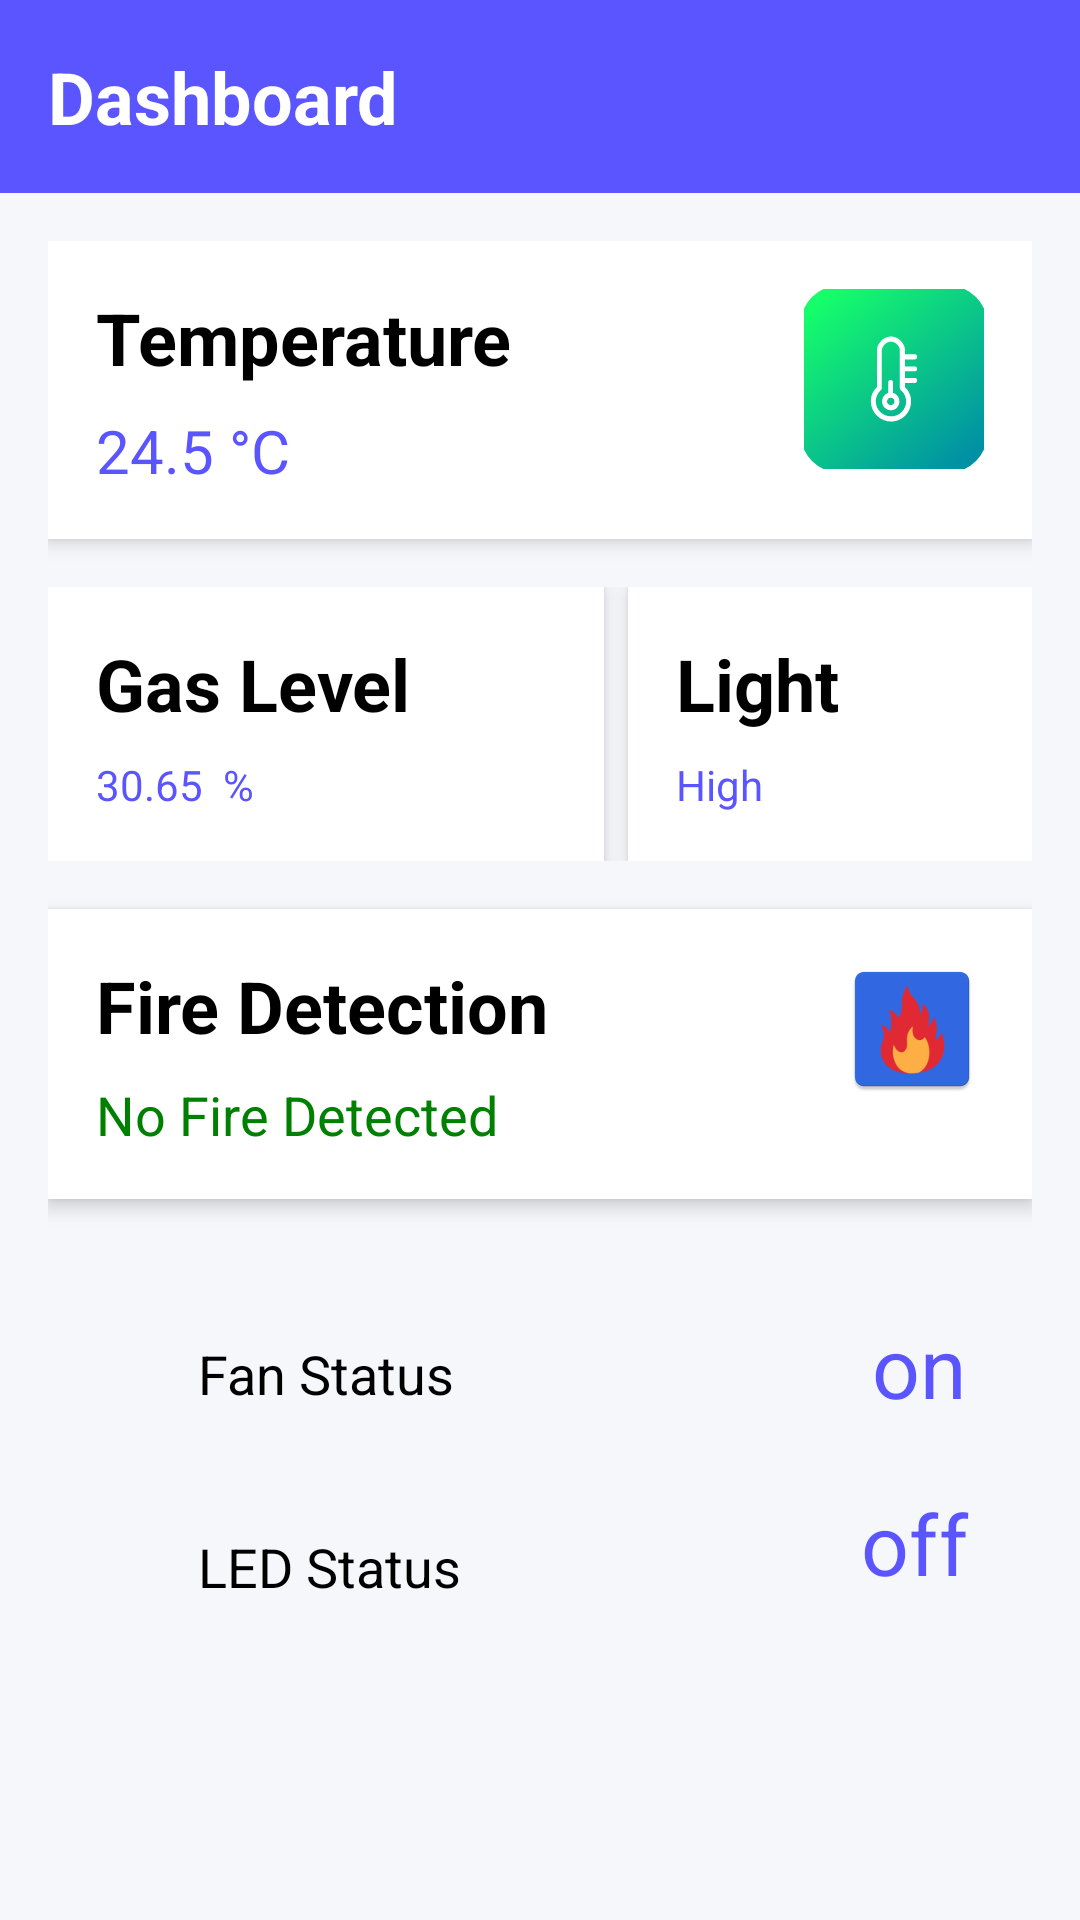

Point at icon controls on the screen. Image size 1080w x 1920h, points as point (x, y).
fire: point (912, 1030)
temprature: point (894, 379)
